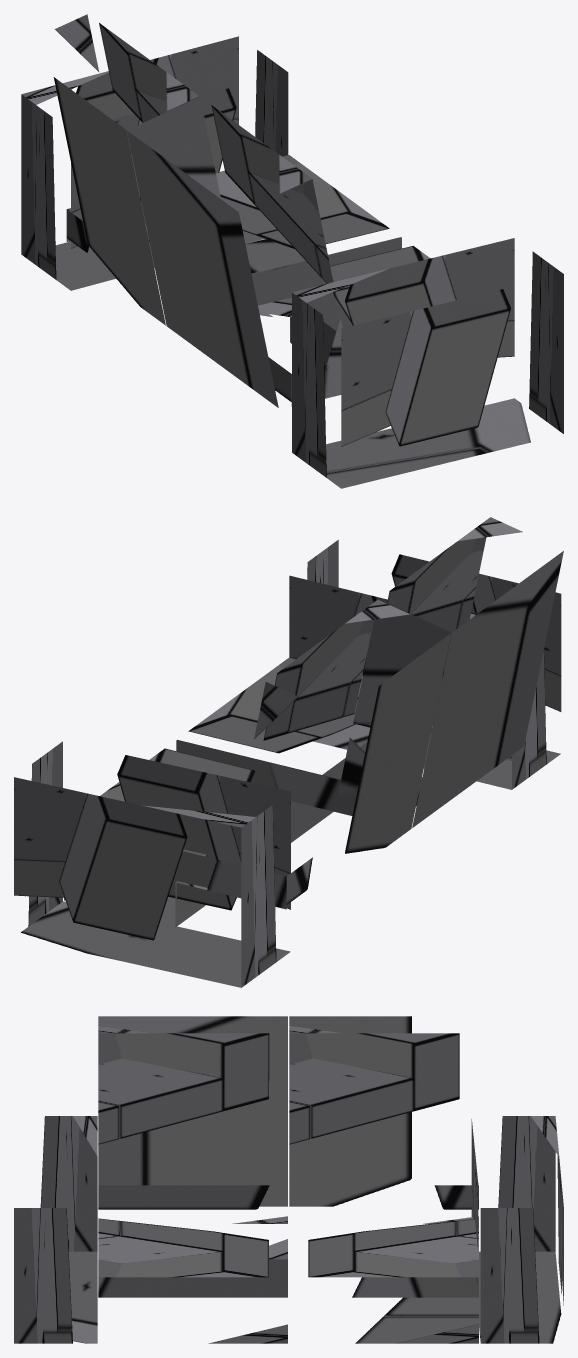
File: Sofa.fbx
3 views of the same model, one above another, from view 1: azimuth 30°, elevation 25°; view 2: azimuth 150°, elevation 25°; view 3: azimuth 270°, elevation 25° (orthographic). The views are drawn at different scales.
Parts seen in each view (by area): view 1: Sofa; view 2: Sofa; view 3: Sofa.
Part boxes in pixels (bbox=[...]): Sofa: bbox=[21, 14, 563, 488]; Sofa: bbox=[14, 517, 563, 987]; Sofa: bbox=[14, 1016, 563, 1343].
Size of the model in its own units: 200 by 186 by 409.
